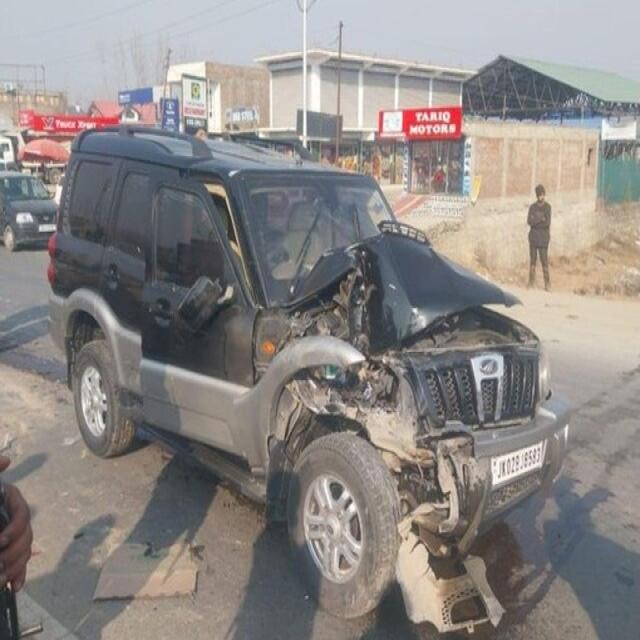plate: (489, 438, 548, 487), (37, 224, 56, 232)
